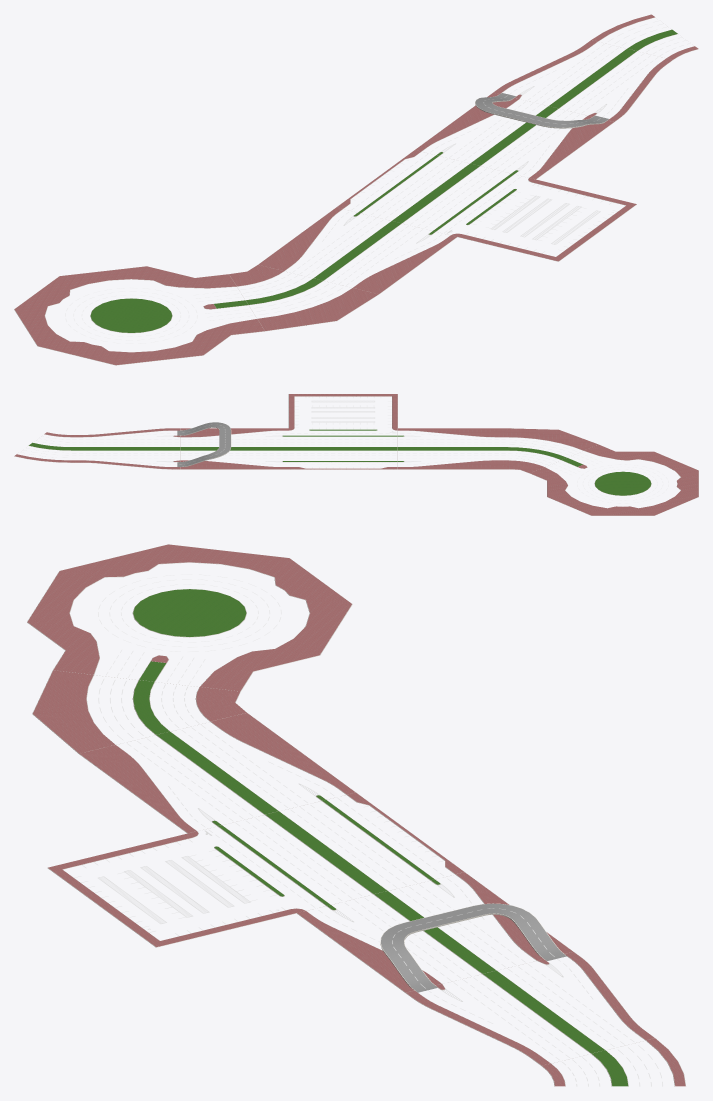
The model's file is pieraroads.glb.
3 views of the same model, one above another, from view 1: azimuth 30°, elevation 25°; view 2: azimuth 150°, elevation 25°; view 3: azimuth 270°, elevation 25° (orthographic). The views are drawn at different scales.
Parts seen in each view (by area): view 1: cityblockassetkit.008, cityblockassetkit.005, cityblockassetkit.006, cityblockassetkit.003, cityblockassetkit.007, cityblockassetkit.001, cityblockassetkit, cityblockassetkit.004, cityblockassetkit.002; view 2: cityblockassetkit.008, cityblockassetkit.005, cityblockassetkit.006, cityblockassetkit.003, cityblockassetkit.007, cityblockassetkit.001, cityblockassetkit, cityblockassetkit.004, cityblockassetkit.002; view 3: cityblockassetkit.008, cityblockassetkit.005, cityblockassetkit.006, cityblockassetkit.007, cityblockassetkit.003, cityblockassetkit.001, cityblockassetkit, cityblockassetkit.004, cityblockassetkit.002.
Part boxes in pixels (x1,y1,x2,y2): cityblockassetkit.008: [14, 266, 264, 365]; cityblockassetkit.005: [397, 164, 636, 261]; cityblockassetkit.006: [258, 207, 457, 294]; cityblockassetkit.003: [415, 92, 614, 179]; cityblockassetkit.007: [229, 265, 378, 331]; cityblockassetkit.001: [493, 40, 672, 121]; cityblockassetkit: [475, 93, 608, 128]; cityblockassetkit.004: [337, 150, 474, 221]; cityblockassetkit.002: [591, 14, 698, 59]; cityblockassetkit.008: [530, 444, 698, 515]; cityblockassetkit.005: [288, 394, 397, 448]; cityblockassetkit.006: [397, 428, 506, 469]; cityblockassetkit.003: [180, 428, 288, 469]; cityblockassetkit.007: [506, 428, 597, 473]; cityblockassetkit.001: [71, 428, 179, 469]; cityblockassetkit: [177, 422, 231, 466]; cityblockassetkit.004: [289, 448, 397, 469]; cityblockassetkit.002: [14, 432, 71, 462]; cityblockassetkit.008: [27, 544, 352, 691]; cityblockassetkit.005: [47, 813, 380, 947]; cityblockassetkit.006: [79, 713, 355, 833]; cityblockassetkit.007: [32, 670, 246, 753]; cityblockassetkit.003: [296, 872, 573, 992]; cityblockassetkit.001: [405, 951, 654, 1065]; cityblockassetkit: [380, 903, 566, 992]; cityblockassetkit.004: [272, 792, 464, 892]; cityblockassetkit.002: [541, 1038, 685, 1086].
Size of the model in its own units: 448 by 9.06 by 230.
12 materials, 11 textured.
